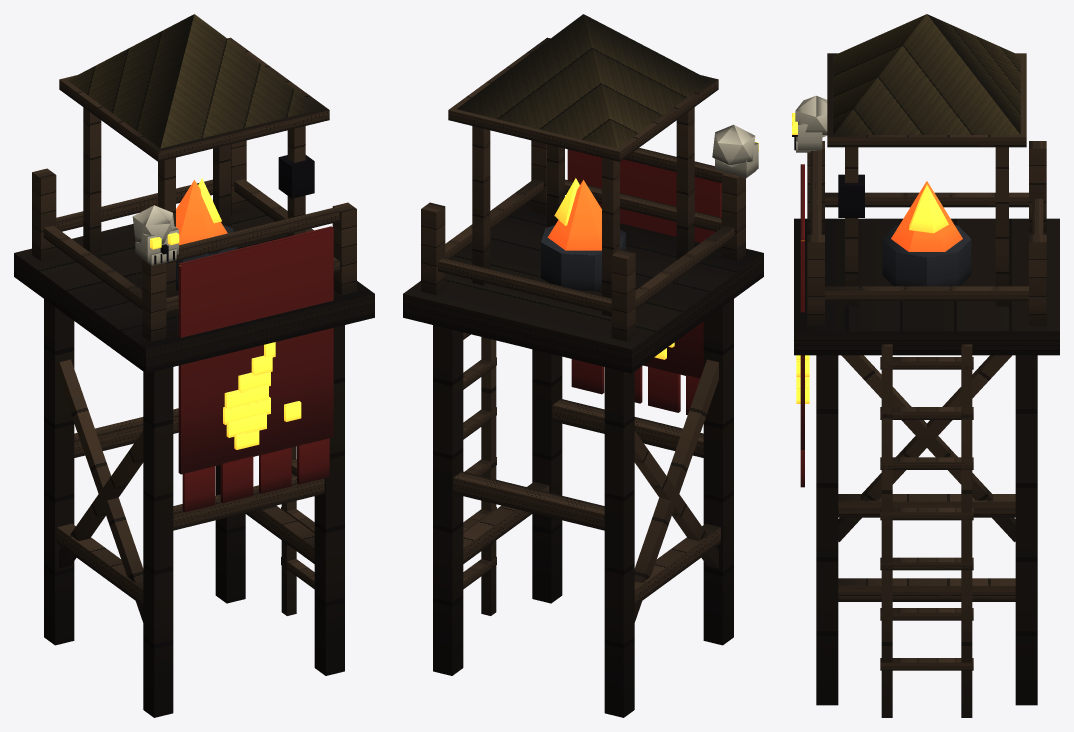
The model's file is watchtower.glb.
3 renders of one model, left to right at view 1: azimuth 30°, elevation 25°; view 2: azimuth 150°, elevation 25°; view 3: azimuth 270°, elevation 25°, orthographic.
Parts seen in each view (by area): view 1: watchtower; view 2: watchtower; view 3: watchtower.
Part boxes in pixels (x1,y1,x2,y2): watchtower: (14,14,374,717); watchtower: (403,14,763,717); watchtower: (792,14,1059,717).
Size of the model in its own units: 1.22 by 3.21 by 1.21.
Materials: 1 (1 with a texture image).
